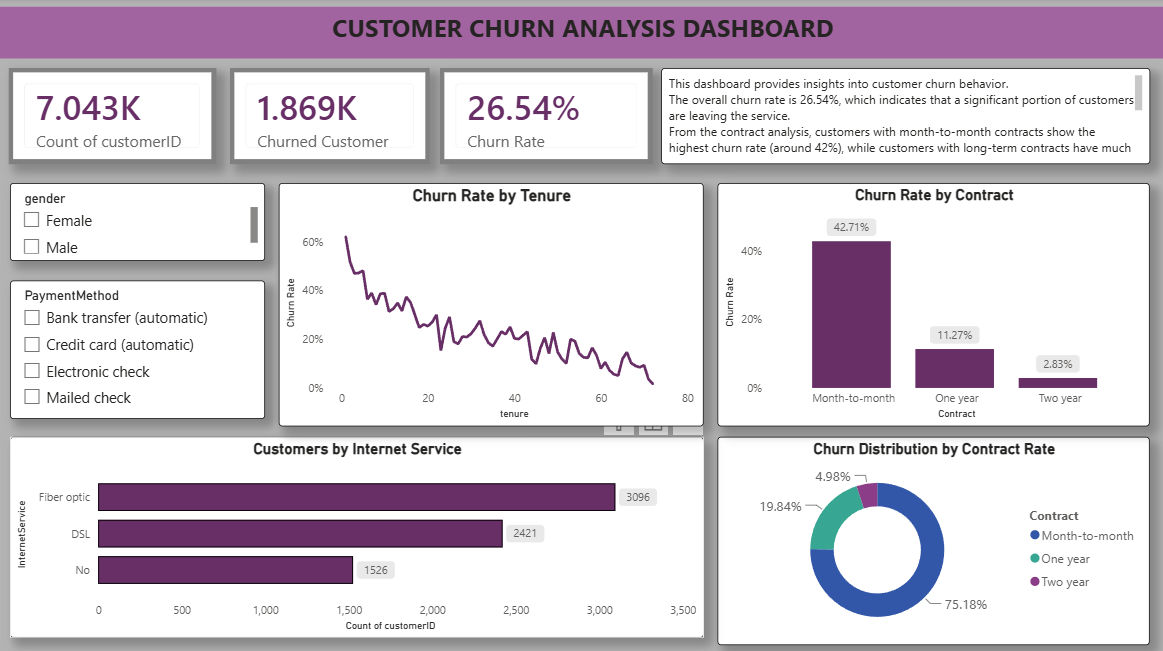

The page's visual inventory and layout, read from the dashboard file:
{"tool":"powerbi","page":{"name":"Page 1","canvas":[1280,720],"ordinal":0},"visuals":[{"type":"cardVisual","fields":{"Data":["CountNonNull(WA_Fn-UseC_-Telco-Customer-Churn.customerID)"]},"box":[9.7,77.2,279.9,105],"z":0},{"type":"cardVisual","title":"Churned Customers","fields":{"Data":["CountNonNull(WA_Fn-UseC_-Telco-Customer-Churn.customerID)"]},"box":[495.4,76.8,279.9,105.7],"z":1000},{"type":"cardVisual","fields":{"Data":["WA_Fn-UseC_-Telco-Customer-Churn.Churn Rate"]},"box":[990.7,76.8,279.9,105.7],"z":2000},{"type":"slicer","fields":{"Values":["WA_Fn-UseC_-Telco-Customer-Churn.gender"]},"box":[10.9,203.1,279.9,85.7],"z":3000},{"type":"slicer","fields":{"Values":["WA_Fn-UseC_-Telco-Customer-Churn.PaymentMethod"]},"box":[10.9,309.7,279.9,152],"z":4000},{"type":"donutChart","fields":{"Category":["WA_Fn-UseC_-Telco-Customer-Churn.Contract"],"Y":["Customer-Churn-Dataset.Churn Rate"]},"box":[851.7,198.6,418.6,267.8],"z":5000},{"type":"clusteredBarChart","fields":{"Category":["WA_Fn-UseC_-Telco-Customer-Churn.InternetService"],"Y":["CountNonNull(WA_Fn-UseC_-Telco-Customer-Churn.customerID)"]},"box":[10.9,482.6,624.9,222],"z":6000},{"type":"lineChart","fields":{"Category":["WA_Fn-UseC_-Telco-Customer-Churn.tenure"],"Y":["Customer-Churn-Dataset.Churn Rate"]},"box":[337.2,198.6,468.1,267.8],"z":7000},{"type":"textbox","box":[0,9.7,1280,56.7],"z":8000},{"type":"clusteredColumnChart","fields":{"Category":["WA_Fn-UseC_-Telco-Customer-Churn.Contract"],"Y":["WA_Fn-UseC_-Telco-Customer-Churn.Churn Rate"]},"box":[698.5,482.6,571.9,222],"z":9000}]}

Visuals, with their boxes in screenshot pixels (x1, y1, x2, y2), scaled from the page's 1280x720 canvas onto the 1163x651 screenshot:
cardVisual - CountNonNull(WA_Fn-UseC_-Telco-Customer-Churn.customerID): crop(9, 70, 263, 165)
"Churned Customers" cardVisual: crop(450, 69, 704, 165)
cardVisual - WA_Fn-UseC_-Telco-Customer-Churn.Churn Rate: crop(900, 69, 1154, 165)
slicer - WA_Fn-UseC_-Telco-Customer-Churn.gender: crop(10, 184, 264, 261)
slicer - WA_Fn-UseC_-Telco-Customer-Churn.PaymentMethod: crop(10, 280, 264, 417)
donutChart - WA_Fn-UseC_-Telco-Customer-Churn.Contract x Customer-Churn-Dataset.Churn Rate: crop(774, 180, 1154, 422)
clusteredBarChart - WA_Fn-UseC_-Telco-Customer-Churn.InternetService x CountNonNull(WA_Fn-UseC_-Telco-Customer-Churn.customerID): crop(10, 436, 578, 637)
lineChart - WA_Fn-UseC_-Telco-Customer-Churn.tenure x Customer-Churn-Dataset.Churn Rate: crop(306, 180, 732, 422)
textbox: crop(0, 9, 1162, 60)
clusteredColumnChart - WA_Fn-UseC_-Telco-Customer-Churn.Contract x WA_Fn-UseC_-Telco-Customer-Churn.Churn Rate: crop(635, 436, 1154, 637)
